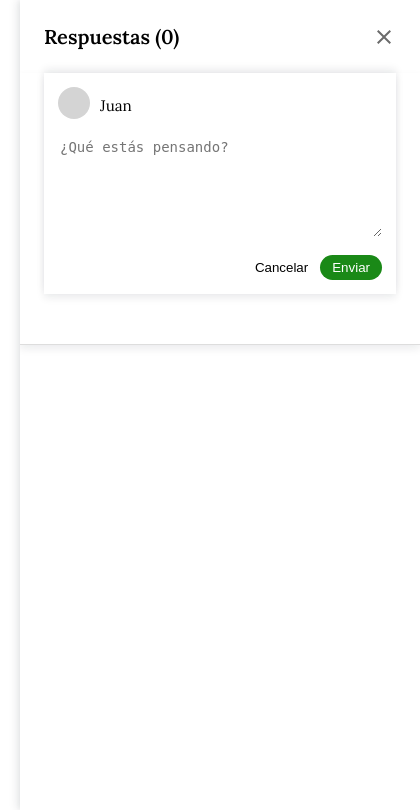
Test: ItemComment › envía un comentario y aparece en la lista
Type "hola mundo" into the text box with placeholder "¿Qué estás pensando?" at [220, 187], box [58,137,382,237]
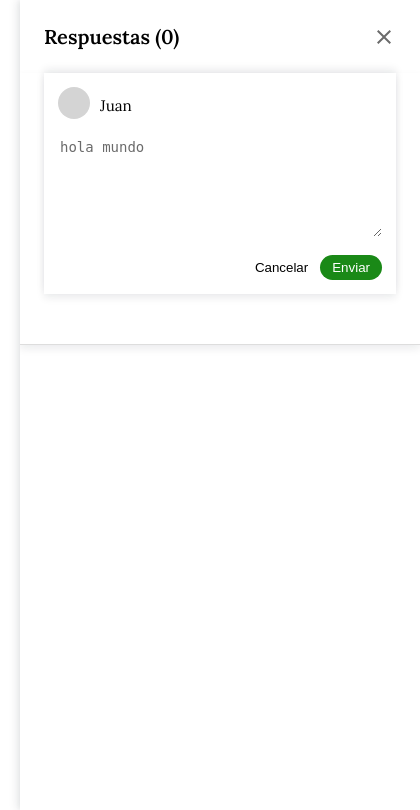
Click the button "Enviar" at [351, 268], box [320,255,382,280]
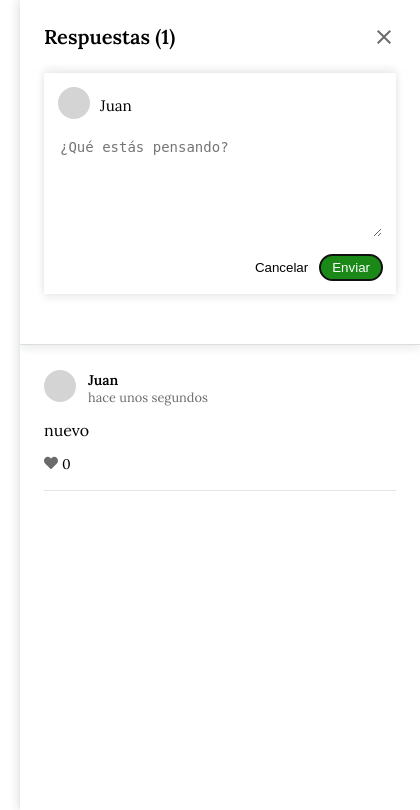
Result: the text "nuevo" is shown at [44,420,89,440]
